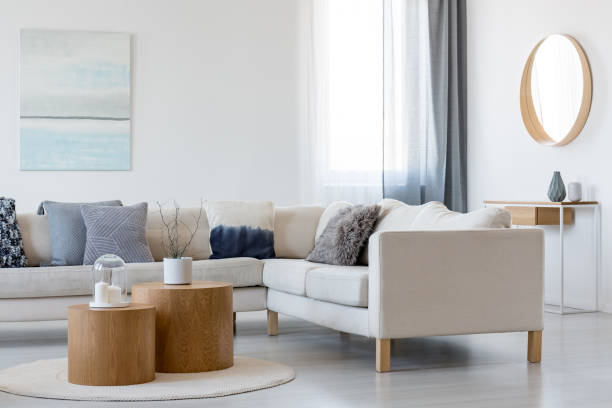flower vase: (156, 194, 205, 285)
sofa: (1, 193, 546, 374)
table: (130, 278, 236, 375), (64, 298, 157, 386)
wall art: (17, 26, 135, 174)
